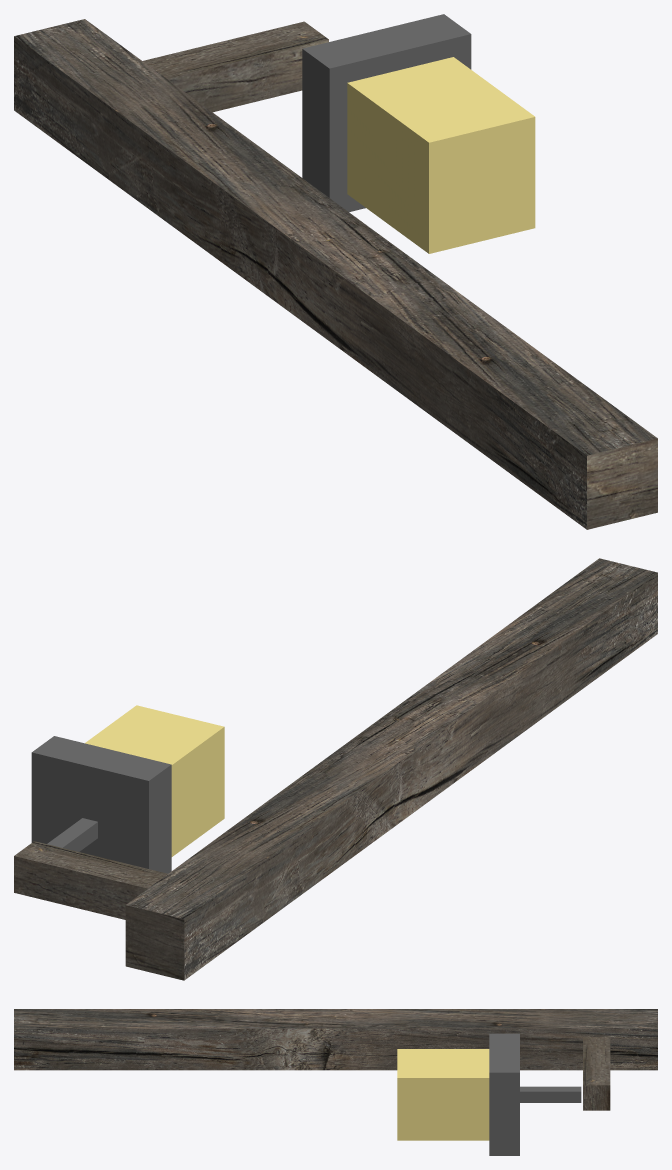
The model's file is Shrine_Lantern_Post.fbx.
3 views of the same model, one above another, from view 1: azimuth 30°, elevation 25°; view 2: azimuth 150°, elevation 25°; view 3: azimuth 270°, elevation 25° (orthographic). The views are drawn at different scales.
Parts seen in each view (by area): view 1: Shrine_Lantern_Post; view 2: Shrine_Lantern_Post; view 3: Shrine_Lantern_Post.
Boxes of the visible parts, box(x1,y1,x2,y2) form: Shrine_Lantern_Post: box(14, 14, 657, 529); Shrine_Lantern_Post: box(14, 558, 657, 980); Shrine_Lantern_Post: box(14, 1009, 657, 1155).
Bounding box in the file's own units: 1.3 × 0.6 × 4.2.
